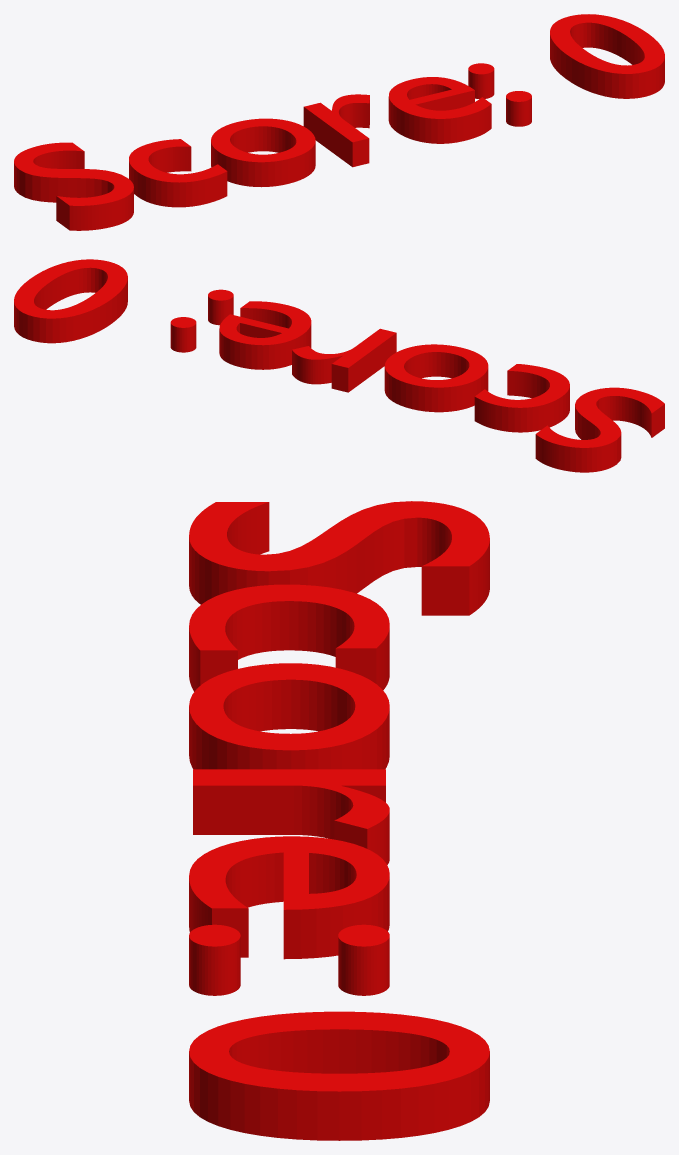
Rendered from ScoreCounter-0-FINAL.obj.
3 renders of one model, top to bottom at view 1: azimuth 30°, elevation 25°; view 2: azimuth 150°, elevation 25°; view 3: azimuth 270°, elevation 25°, orthographic. The views are drawn at different scales.
Parts seen in each view (by area): view 1: Text.005_Text.008; view 2: Text.005_Text.008; view 3: Text.005_Text.008.
Part boxes in pixels (<box>): Text.005_Text.008: <box>14,14,664,230</box>; Text.005_Text.008: <box>14,259,664,472</box>; Text.005_Text.008: <box>189,501,489,1140</box>.
Bounding box in the file's own units: 3.25 × 0.1266 × 0.7.
